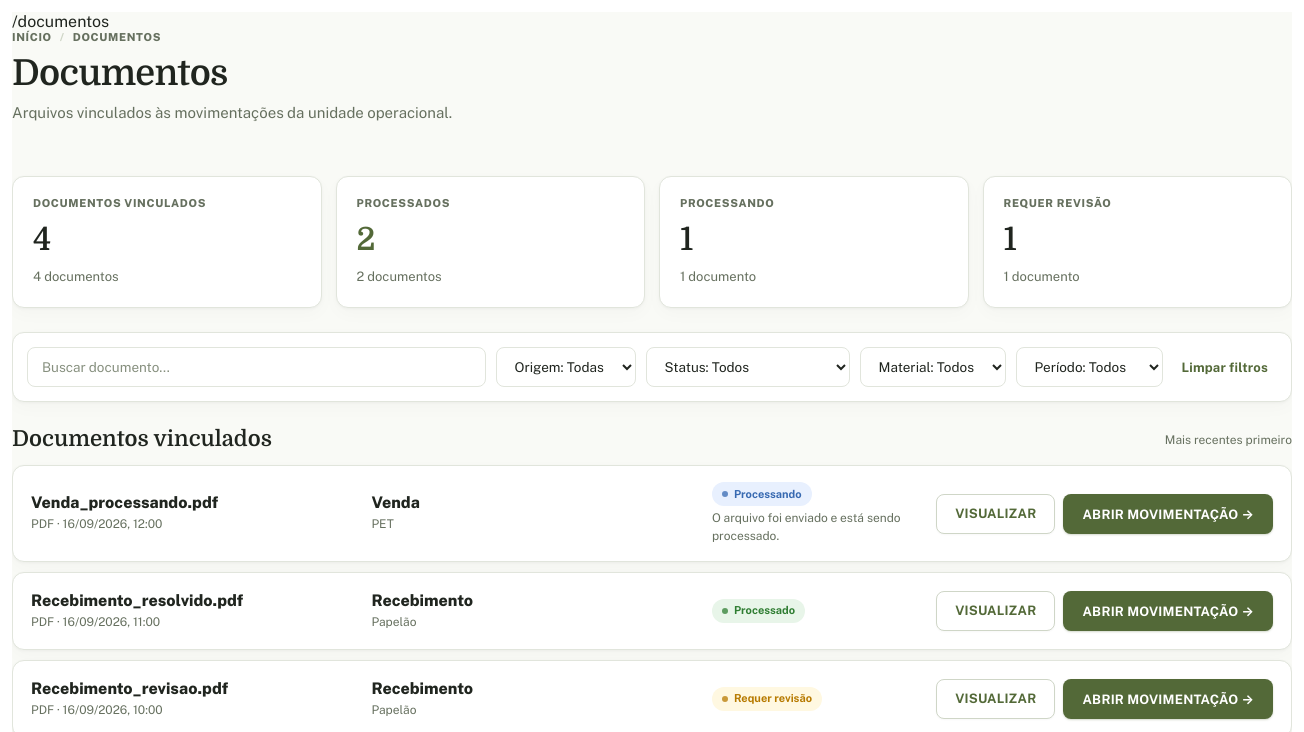
Test: DocumentsPage › opens a durable document detail and returns to the owning movement route
Expected: the text "Venda_processando.pdf" is shown, [31,493,218,512]
Click the button "VISUALIZAR" in the row of "Venda_processando.pdf".
click(996, 514)  # box [936,494,1056,534]
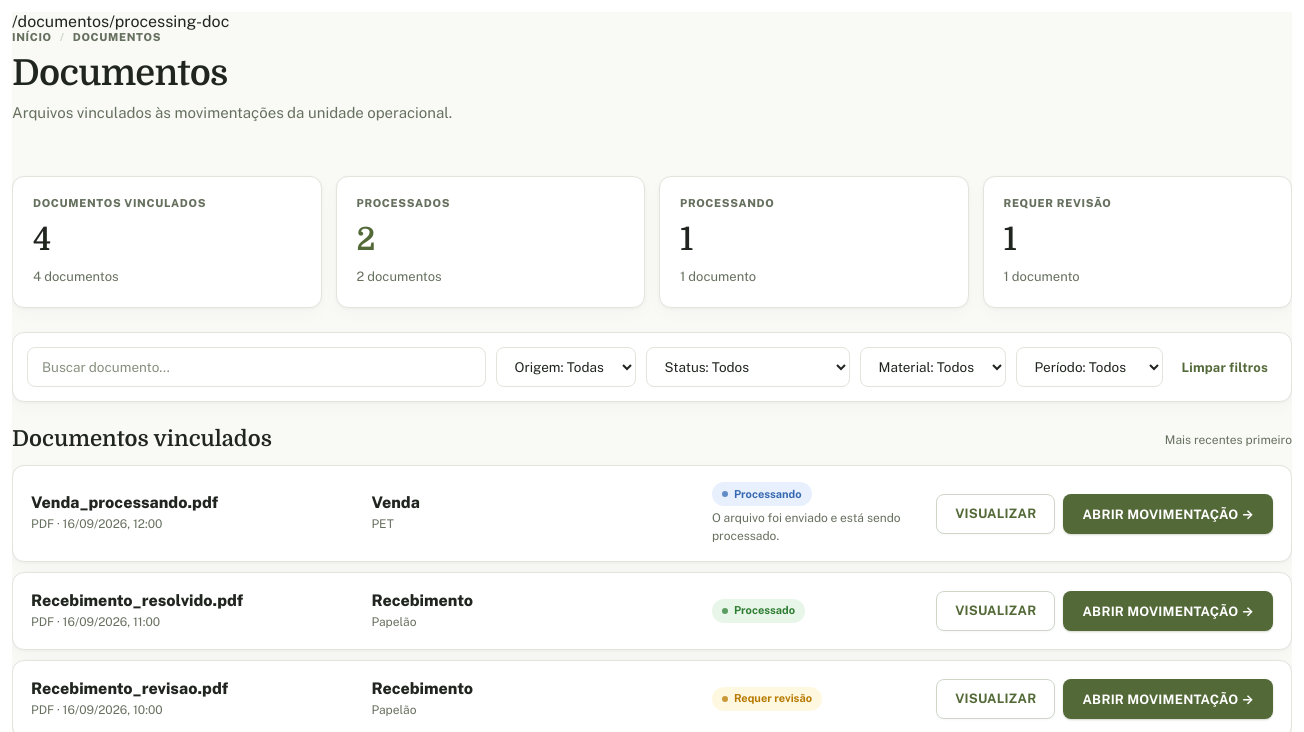
Now the text with test id "location" reads "/documentos/processing-doc", box [12,12,229,31]
Click the button "ABRIR MOVIMENTAÇÃO →" in the row of "Venda_processando.pdf".
click(1168, 514)  # box [1064,494,1273,534]
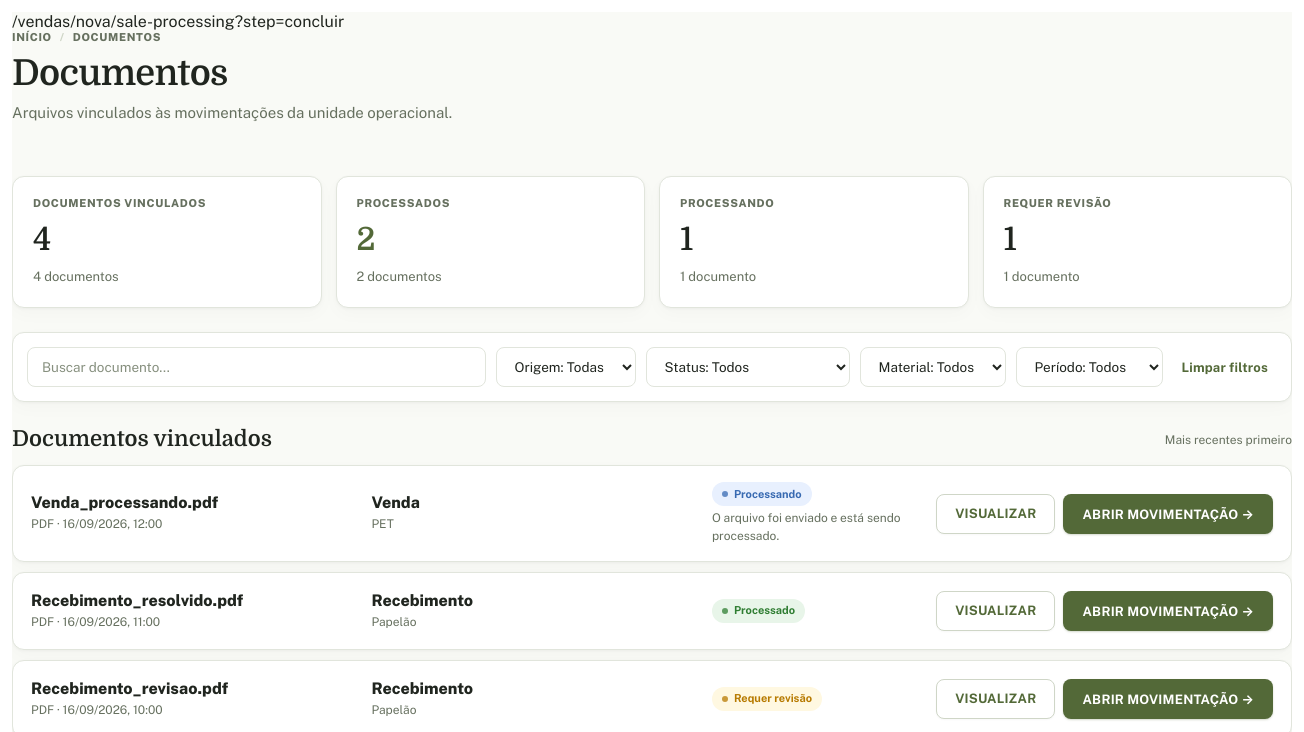
Now the text with test id "location" reads "/vendas/nova/sale-processing?step=concluir", box [12,12,344,31]
